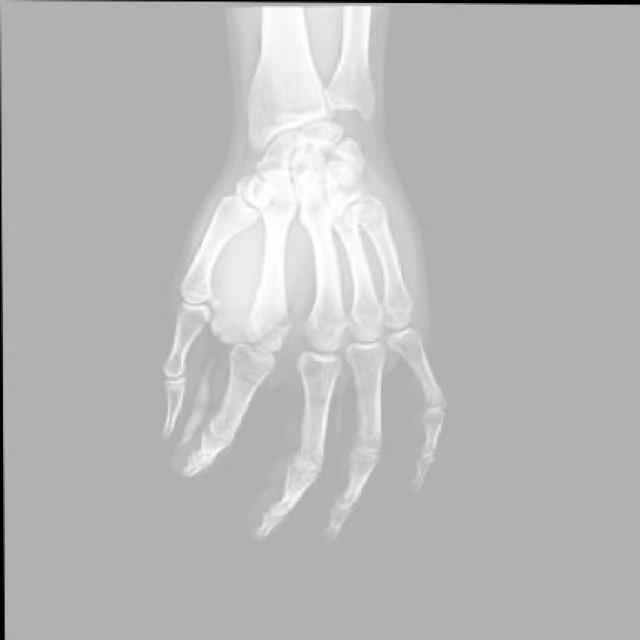Fracture: (351, 193, 391, 233)
